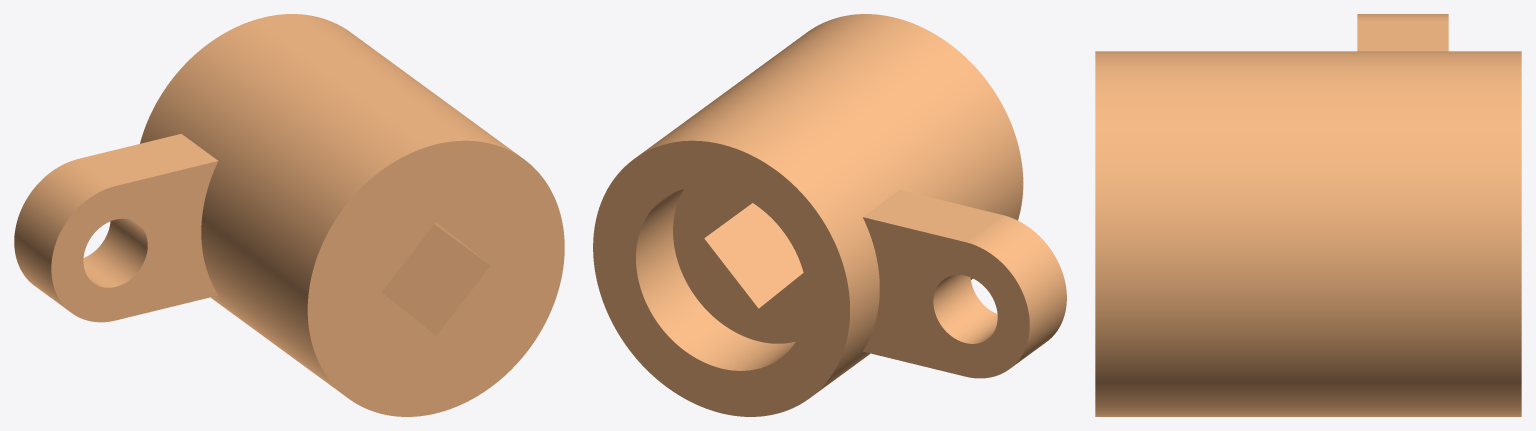
3 views of the same model, side by side, from view 1: azimuth 30°, elevation 25°; view 2: azimuth 150°, elevation 25°; view 3: azimuth 270°, elevation 25° (orthographic). The views are drawn at different scales.
Parts seen in each view (by area): view 1: 拉伸2; view 2: 拉伸2; view 3: 拉伸2.
Part boxes in pixels (x1=…): 拉伸2: x1=14, y1=14, x2=564, y2=416; 拉伸2: x1=593, y1=14, x2=1066, y2=416; 拉伸2: x1=1095, y1=14, x2=1521, y2=416.
Size of the model in its own units: 3.74 by 2.36 by 2.76.
